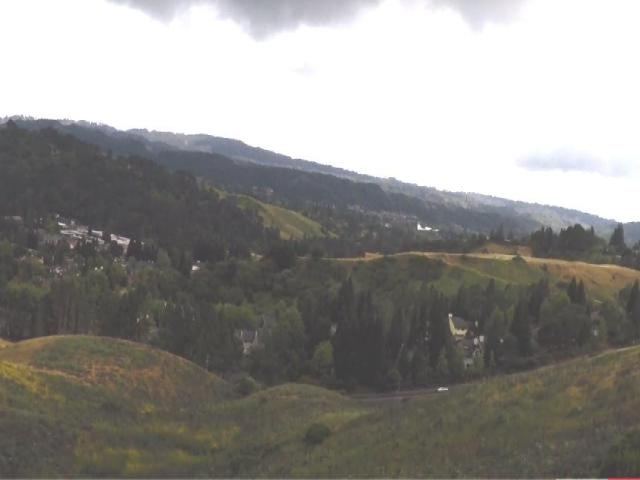iha: (414, 224, 441, 235)
